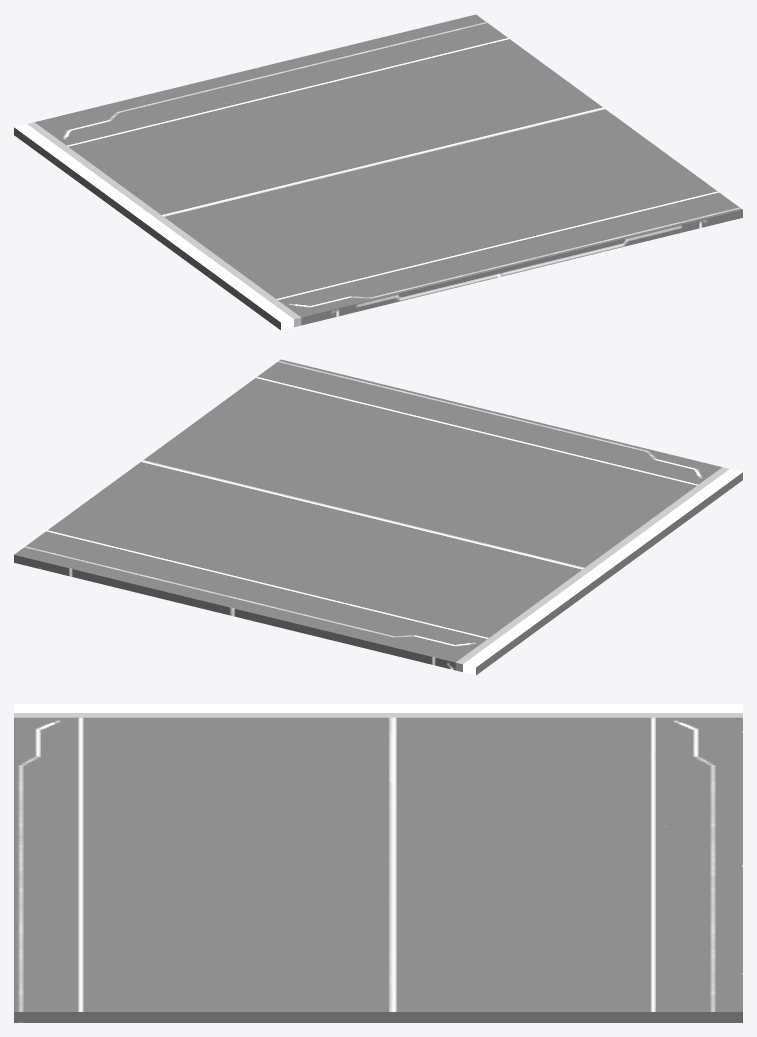
Rendered from Floor3.fbx.
3 renders of one model, top to bottom at view 1: azimuth 30°, elevation 25°; view 2: azimuth 150°, elevation 25°; view 3: azimuth 270°, elevation 25°, orthographic. The views are drawn at different scales.
Visible parts, largest first — view 1: Floor3; view 2: Floor3; view 3: Floor3.
Boxes of the visible parts, bbox=[...] form: Floor3: bbox=[14, 14, 742, 330]; Floor3: bbox=[14, 359, 742, 675]; Floor3: bbox=[14, 704, 742, 1022].
Size of the model in its own units: 797 by 13.1 by 797.
